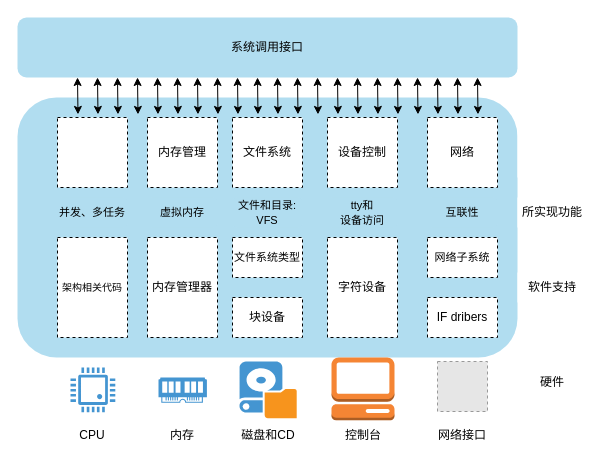
Some shapes in this 604 by 467 pixel diagram are drawn without their labels. Grey dashed boxes stand in for pictures. Here are the shapes that lost their labels. From the top down, the box of each, then its label:
(56, 116, 128, 188): 进程管理
(517, 127, 587, 177): 内核子系统
